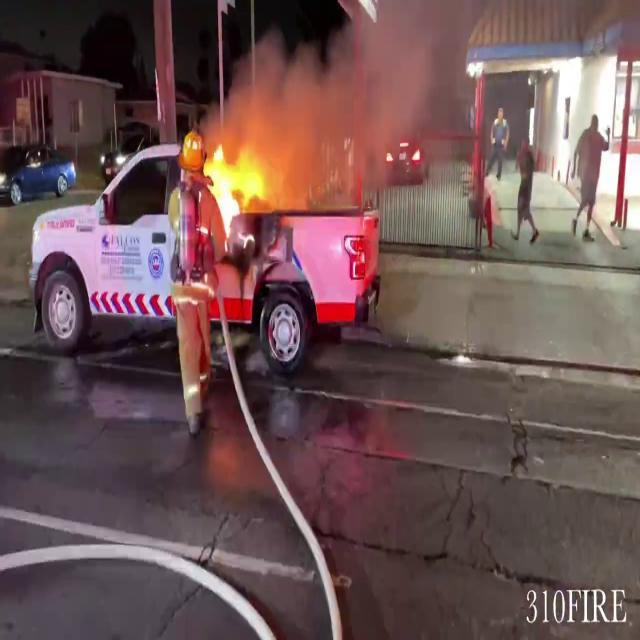Fire: (193, 116, 280, 262)
Smoke: (246, 0, 495, 229)
